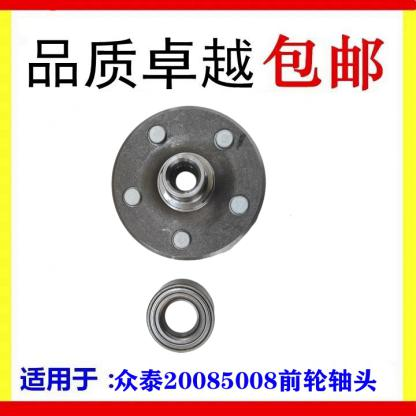FOD: (108, 104, 280, 262)
